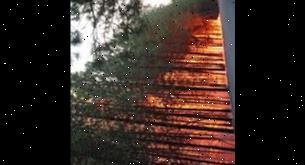fire: (161, 14, 235, 165)
